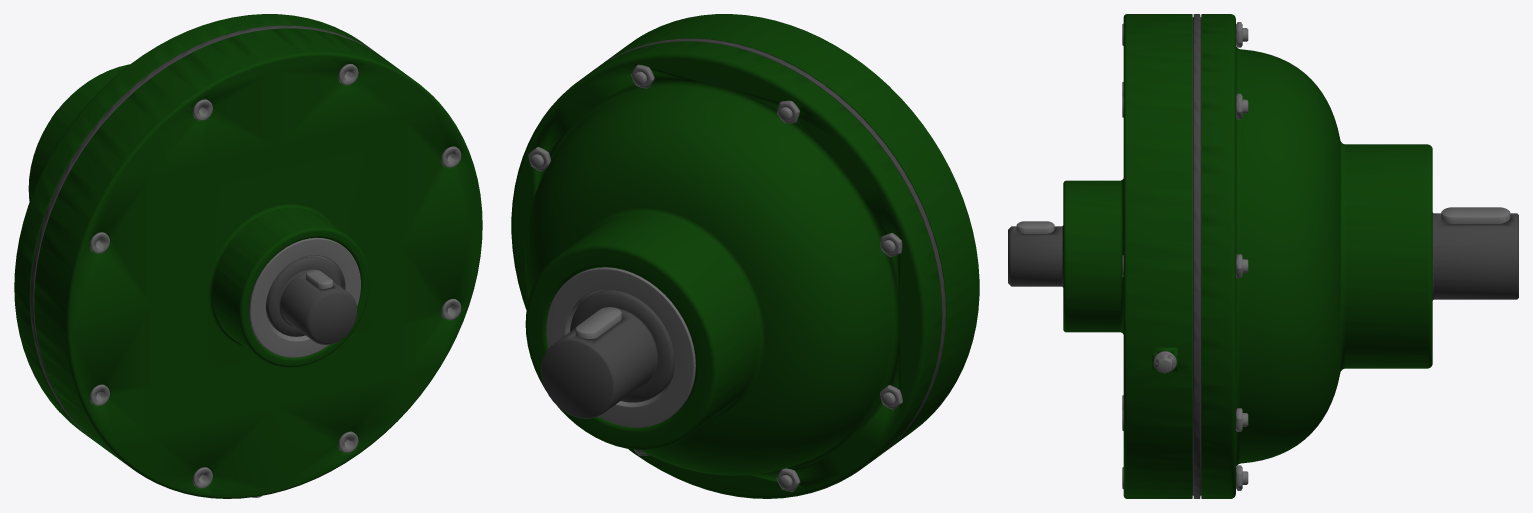
Rendered from gearbox.glb.
3 views of the same model, side by side, from view 1: azimuth 30°, elevation 25°; view 2: azimuth 150°, elevation 25°; view 3: azimuth 270°, elevation 25° (orthographic).
Visible parts, largest first — view 1: RIDUTTORE - RIDUTTORE.iam-1 CASE_INGRESSO.ipt-1, RIDUTTORE - RIDUTTORE.iam-1 CASE_USCITA.ipt-1, RIDUTTORE - RIDUTTORE.iam-1 ALBERO_INGRESSO.ipt-1, RIDUTTORE - RIDUTTORE.iam-1 LIP_SEAL_INGRESSO.ipt-1, RIDUTTORE - RIDUTTORE.iam-1 CORONA.ipt-1; view 2: RIDUTTORE - RIDUTTORE.iam-1 CASE_USCITA.ipt-1, RIDUTTORE - RIDUTTORE.iam-1 CASE_INGRESSO.ipt-1, RIDUTTORE - RIDUTTORE.iam-1 ALBERO_USCITA.ipt-1, RIDUTTORE - RIDUTTORE.iam-1 LIP_SEAL_USCITA.ipt-1, RIDUTTORE - RIDUTTORE.iam-1 CORONA.ipt-1, RIDUTTORE - RIDUTTORE.iam-1 LINGUETTA_USCITA.ipt-1; view 3: RIDUTTORE - RIDUTTORE.iam-1 CASE_USCITA.ipt-1, RIDUTTORE - RIDUTTORE.iam-1 CASE_INGRESSO.ipt-1, RIDUTTORE - RIDUTTORE.iam-1 ALBERO_USCITA.ipt-1, RIDUTTORE - RIDUTTORE.iam-1 CORONA.ipt-1, RIDUTTORE - RIDUTTORE.iam-1 ALBERO_INGRESSO.ipt-1, RIDUTTORE - RIDUTTORE.iam-1 LINGUETTA_USCITA.ipt-1.
Part boxes in pixels (x1,y1,x2,y2): RIDUTTORE - RIDUTTORE.iam-1 CASE_INGRESSO.ipt-1: (34,28,482,498); RIDUTTORE - RIDUTTORE.iam-1 CASE_USCITA.ipt-1: (14,14,374,439); RIDUTTORE - RIDUTTORE.iam-1 ALBERO_INGRESSO.ipt-1: (266,256,357,344); RIDUTTORE - RIDUTTORE.iam-1 LIP_SEAL_INGRESSO.ipt-1: (249,237,360,357); RIDUTTORE - RIDUTTORE.iam-1 CORONA.ipt-1: (30,25,384,442); RIDUTTORE - RIDUTTORE.iam-1 CASE_USCITA.ipt-1: (511,41,941,498); RIDUTTORE - RIDUTTORE.iam-1 CASE_INGRESSO.ipt-1: (603,14,979,451); RIDUTTORE - RIDUTTORE.iam-1 ALBERO_USCITA.ipt-1: (541,289,674,418); RIDUTTORE - RIDUTTORE.iam-1 LIP_SEAL_USCITA.ipt-1: (546,267,695,427); RIDUTTORE - RIDUTTORE.iam-1 CORONA.ipt-1: (598,38,945,455); RIDUTTORE - RIDUTTORE.iam-1 LINGUETTA_USCITA.ipt-1: (575,307,621,338); RIDUTTORE - RIDUTTORE.iam-1 CASE_USCITA.ipt-1: (1201,14,1432,498); RIDUTTORE - RIDUTTORE.iam-1 CASE_INGRESSO.ipt-1: (1063,14,1192,498); RIDUTTORE - RIDUTTORE.iam-1 ALBERO_USCITA.ipt-1: (1432,212,1518,300); RIDUTTORE - RIDUTTORE.iam-1 CORONA.ipt-1: (1192,14,1201,498); RIDUTTORE - RIDUTTORE.iam-1 ALBERO_INGRESSO.ipt-1: (1008,225,1063,287); RIDUTTORE - RIDUTTORE.iam-1 LINGUETTA_USCITA.ipt-1: (1441,207,1510,223).
Bounding box in the file's own units: 0.2914 × 0.2914 × 0.296.
